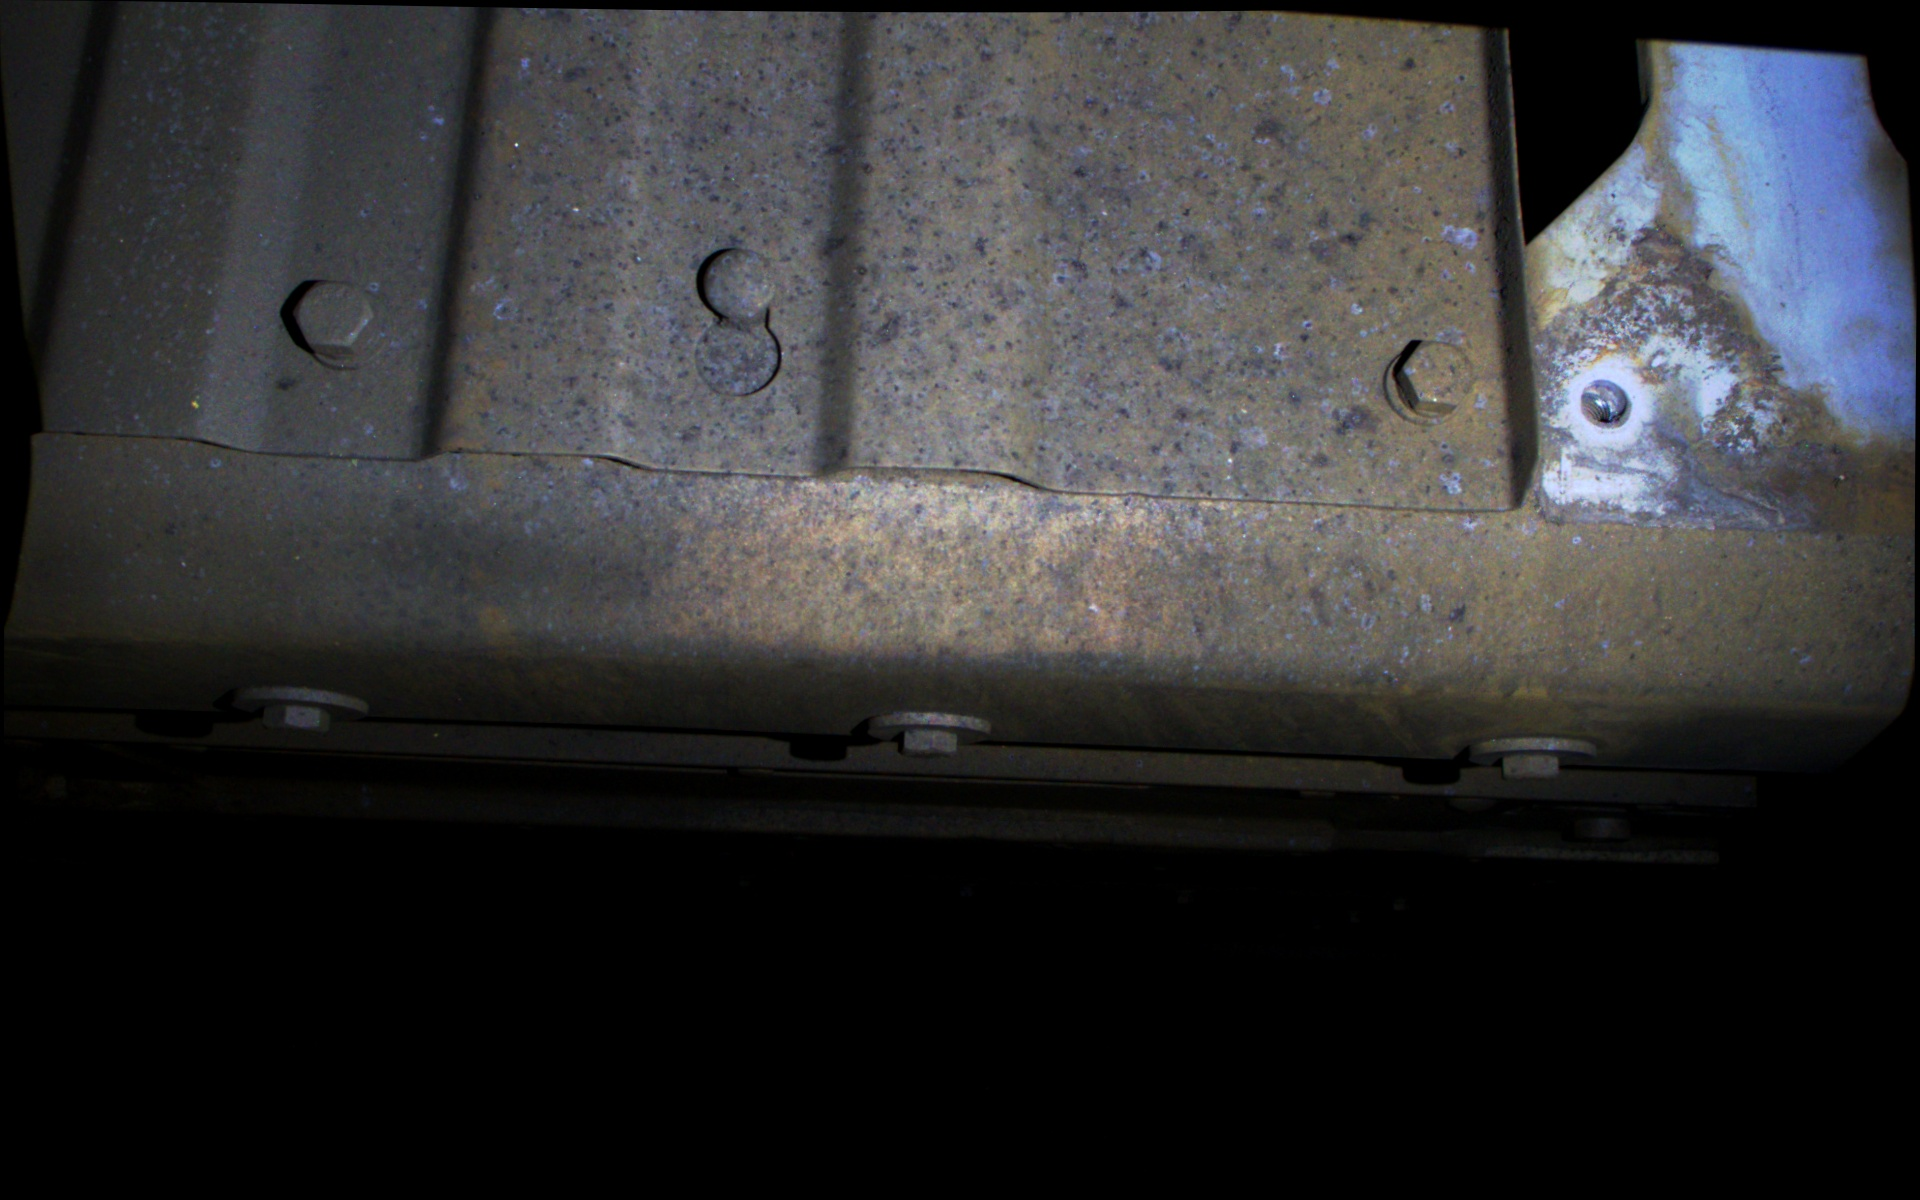BoltHead1: (288, 276, 377, 361)
BoltHead2: (1385, 332, 1480, 420)
BoltHead3: (1572, 373, 1644, 438)
